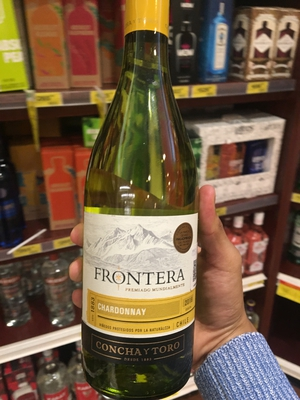frontera chardonnay: (76, 7, 223, 400)
